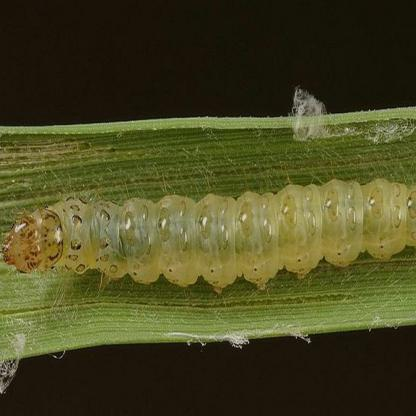leaf-folder: (2, 164, 415, 303)
